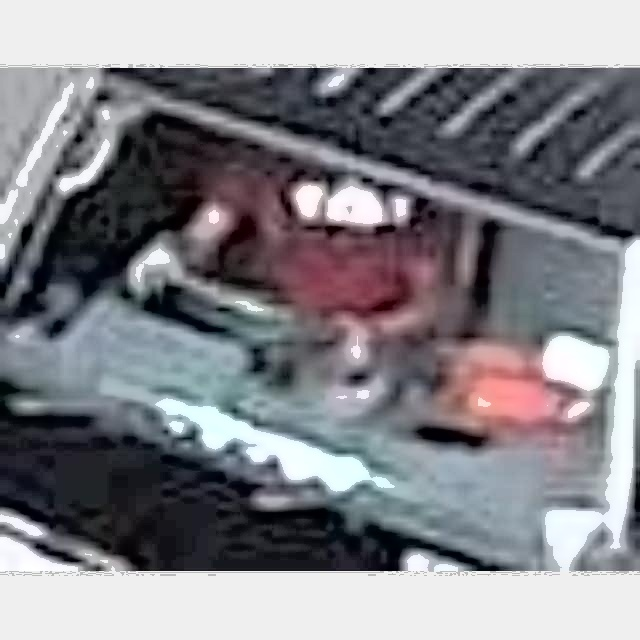tidak-pakai: (170, 163, 463, 381)
